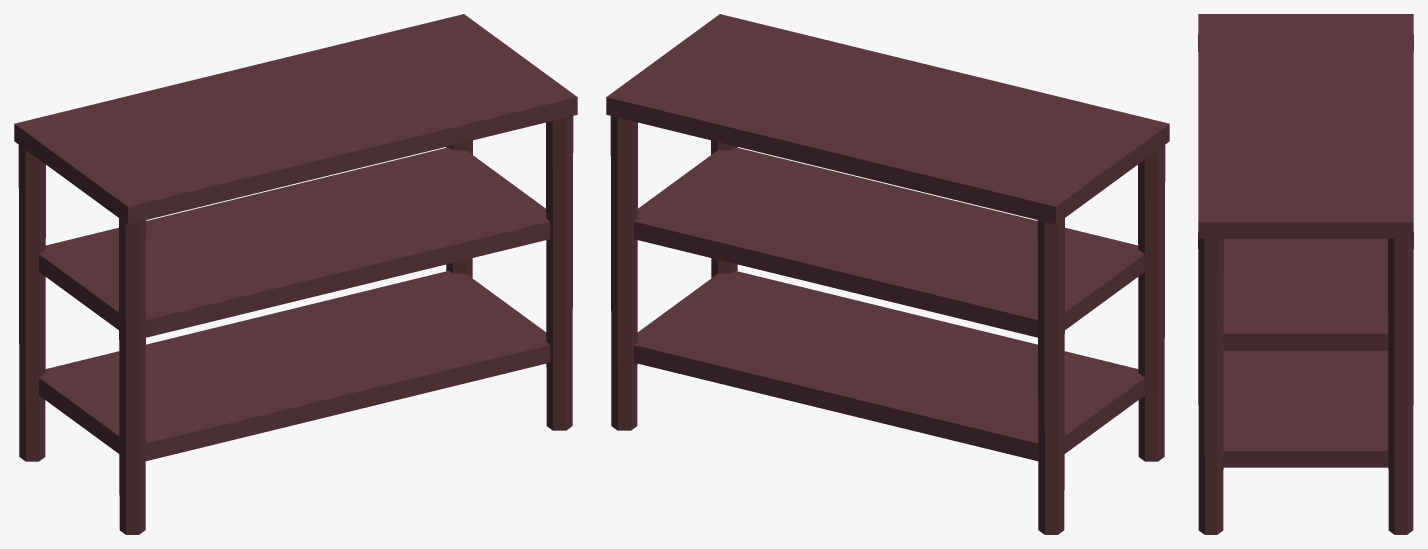
File: bench-storage-metal.fbx
The picture shows the model from 3 angles, left to right: view 1: azimuth 30°, elevation 25°; view 2: azimuth 150°, elevation 25°; view 3: azimuth 270°, elevation 25°; orthographic projection. The views are drawn at different scales.
Visible parts, largest first — view 1: bench-storage-metal; view 2: bench-storage-metal; view 3: bench-storage-metal.
Boxes of the visible parts, x1,y1,x2,y2 form: bench-storage-metal: (14, 14, 577, 534); bench-storage-metal: (606, 14, 1169, 534); bench-storage-metal: (1198, 14, 1413, 534).
Bounding box in the file's own units: 0.8 × 0.5627 × 0.3507.
